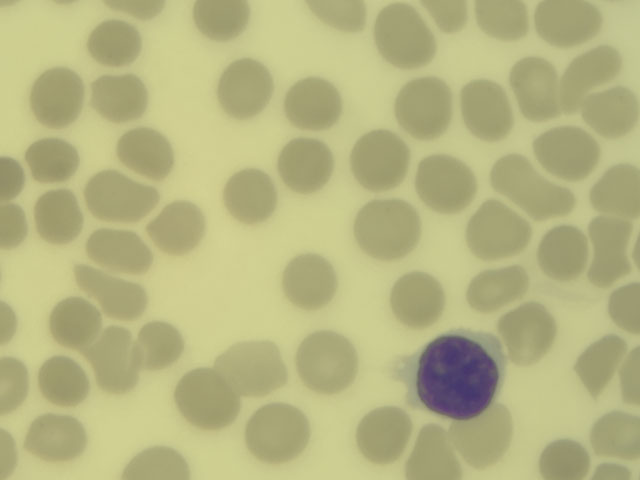RBC: (497, 157, 570, 218), (352, 203, 422, 262), (500, 305, 561, 367), (384, 269, 448, 325), (82, 267, 149, 318), (351, 405, 411, 461), (533, 126, 604, 173), (86, 172, 151, 221), (469, 207, 526, 262), (282, 254, 338, 309), (571, 332, 621, 393), (245, 410, 310, 456), (300, 332, 354, 387), (222, 168, 278, 221), (285, 80, 344, 130), (222, 56, 271, 116), (466, 78, 510, 142), (420, 155, 476, 205), (591, 218, 634, 283), (515, 57, 559, 120), (31, 69, 84, 121), (93, 329, 135, 394), (399, 80, 451, 132), (541, 2, 605, 44), (460, 267, 530, 305), (174, 374, 226, 425), (281, 138, 335, 187), (378, 9, 427, 61), (415, 420, 457, 480), (36, 355, 87, 404), (354, 134, 405, 183), (114, 130, 176, 170), (92, 229, 151, 270), (225, 345, 283, 386), (543, 226, 587, 280), (457, 420, 519, 458), (89, 18, 141, 63), (36, 190, 81, 240), (30, 417, 81, 460), (583, 93, 640, 131), (94, 73, 143, 116), (130, 445, 190, 480), (474, 1, 530, 38), (158, 205, 204, 249), (303, 1, 367, 32), (570, 51, 626, 86), (195, 1, 250, 36), (52, 301, 99, 340), (140, 324, 182, 367), (30, 141, 80, 177), (594, 413, 640, 452), (592, 170, 639, 208), (543, 440, 587, 480), (605, 282, 640, 331), (424, 1, 469, 33), (2, 359, 26, 411), (103, 1, 169, 19), (1, 152, 24, 196), (1, 205, 24, 247), (1, 426, 17, 476), (629, 348, 640, 407), (2, 302, 16, 343)
WBC: (420, 339, 497, 409)
